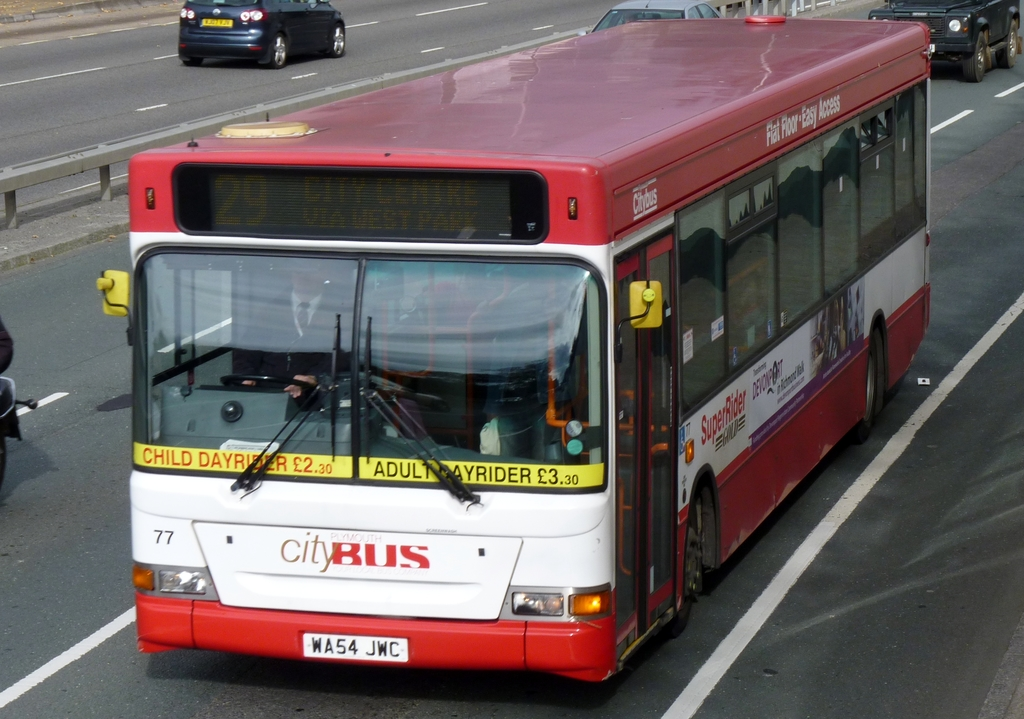Bus: (96, 14, 931, 681)
